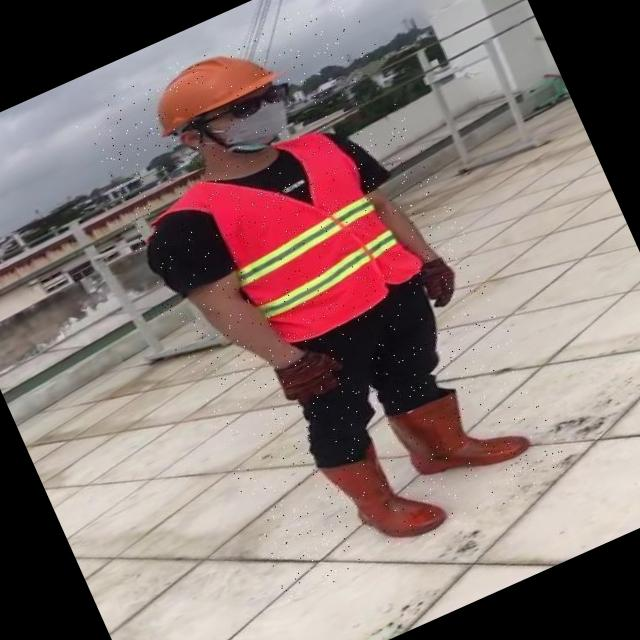hard_hat: (129, 26, 287, 142)
safety_vest: (195, 110, 432, 354)
vehicle: (69, 0, 574, 603)
work_boots: (384, 364, 536, 500), (316, 426, 450, 564)
